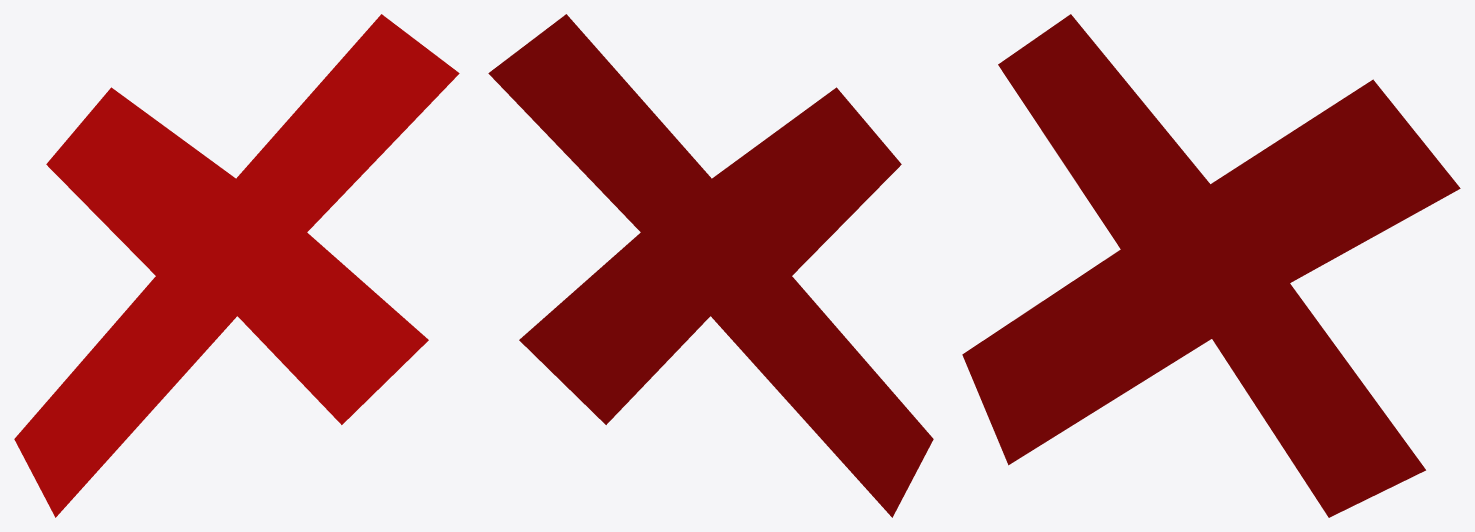
Rendered from Tache.fbx.
3 renders of one model, left to right at view 1: azimuth 30°, elevation 25°; view 2: azimuth 150°, elevation 25°; view 3: azimuth 330°, elevation 25°, orthographic. The views are drawn at different scales.
Visible parts, largest first — view 1: Bad; view 2: Bad; view 3: Bad.
Boxes of the visible parts, <box> form: Bad: <box>14,14,459,517</box>; Bad: <box>488,14,933,517</box>; Bad: <box>962,14,1460,517</box>.
Size of the model in its own units: 6.04 by 5.5 by 0.
